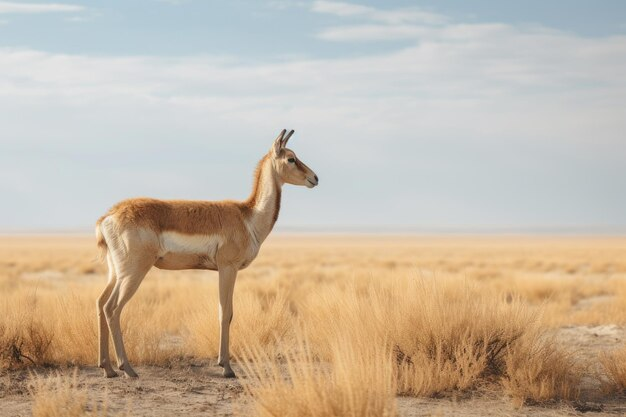saiga: (89, 128, 321, 386)
